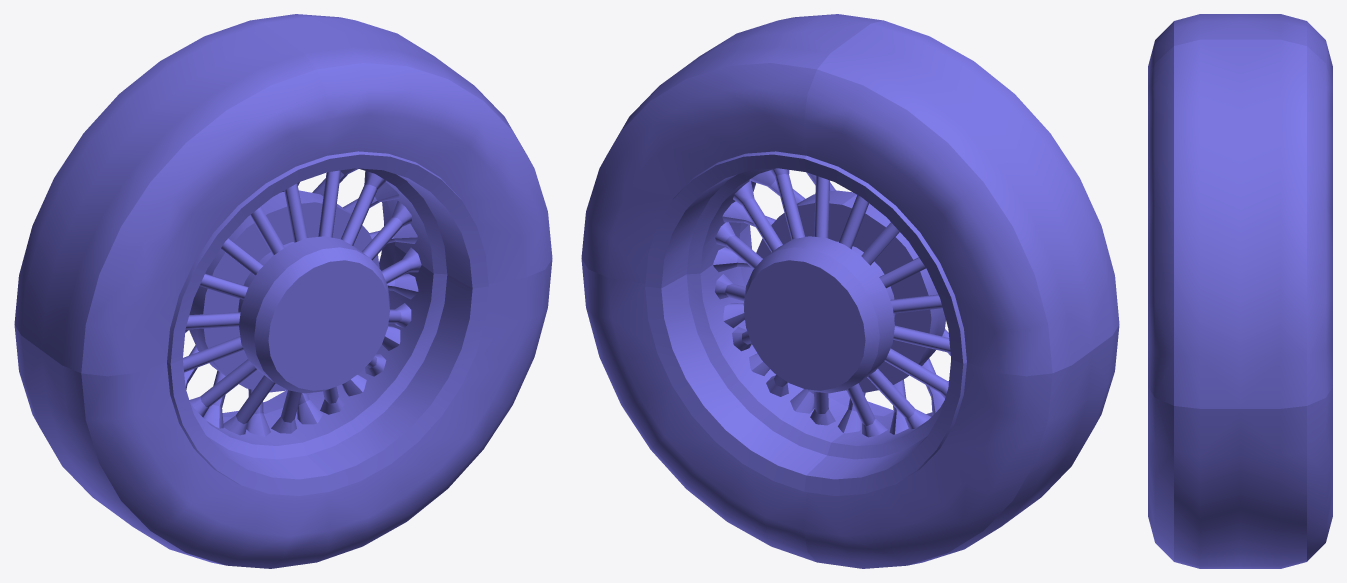
The model's file is obj_rewards_lowriderwheel.fbx.
The picture shows the model from 3 angles, left to right: view 1: azimuth 30°, elevation 25°; view 2: azimuth 150°, elevation 25°; view 3: azimuth 270°, elevation 25°; orthographic projection.
Parts seen in each view (by area): view 1: part1_lp.004, part3_lp.003, part4_lp.001; view 2: part1_lp.004, part3_lp.003, part4_lp.001; view 3: part1_lp.004.
Boxes of the visible parts, <box> form: part1_lp.004: <box>14,14,552,568</box>; part3_lp.003: <box>189,190,390,393</box>; part4_lp.001: <box>183,168,421,436</box>; part1_lp.004: <box>581,14,1119,568</box>; part3_lp.003: <box>743,190,945,393</box>; part4_lp.001: <box>713,168,950,437</box>; part1_lp.004: <box>1148,14,1332,568</box>.
Bounding box in the file's own units: 3 × 3 × 0.9978.
